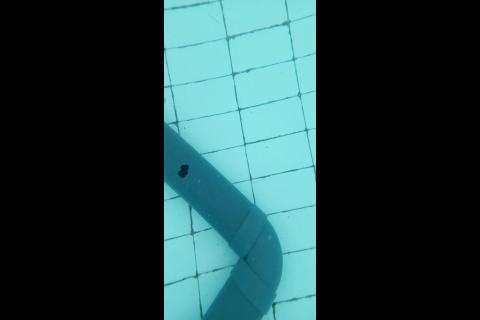kebocoran: (177, 163, 190, 179)
